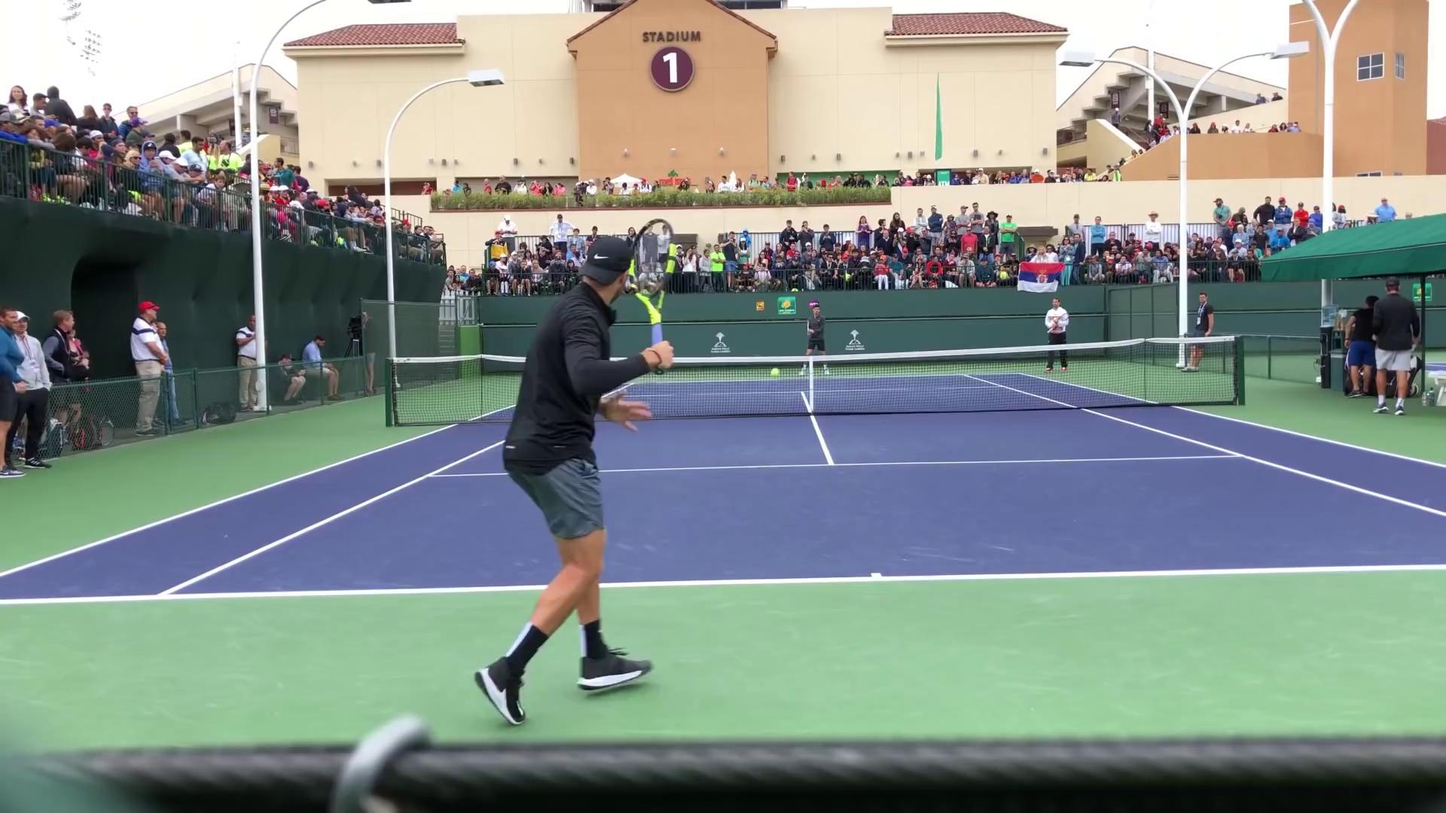ball: (767, 366, 782, 376)
